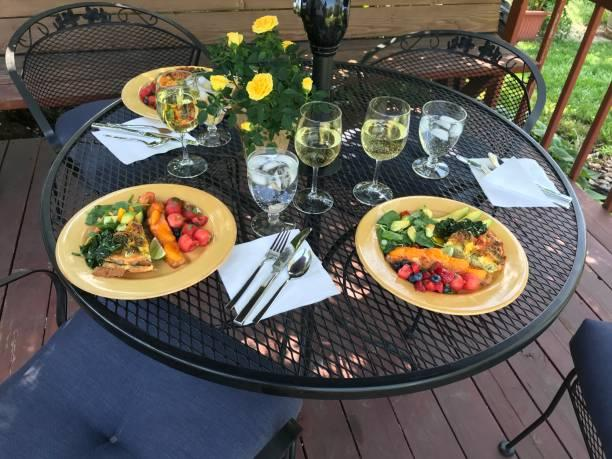Braised Crucian Carp: (54, 183, 236, 298), (352, 195, 526, 313)
